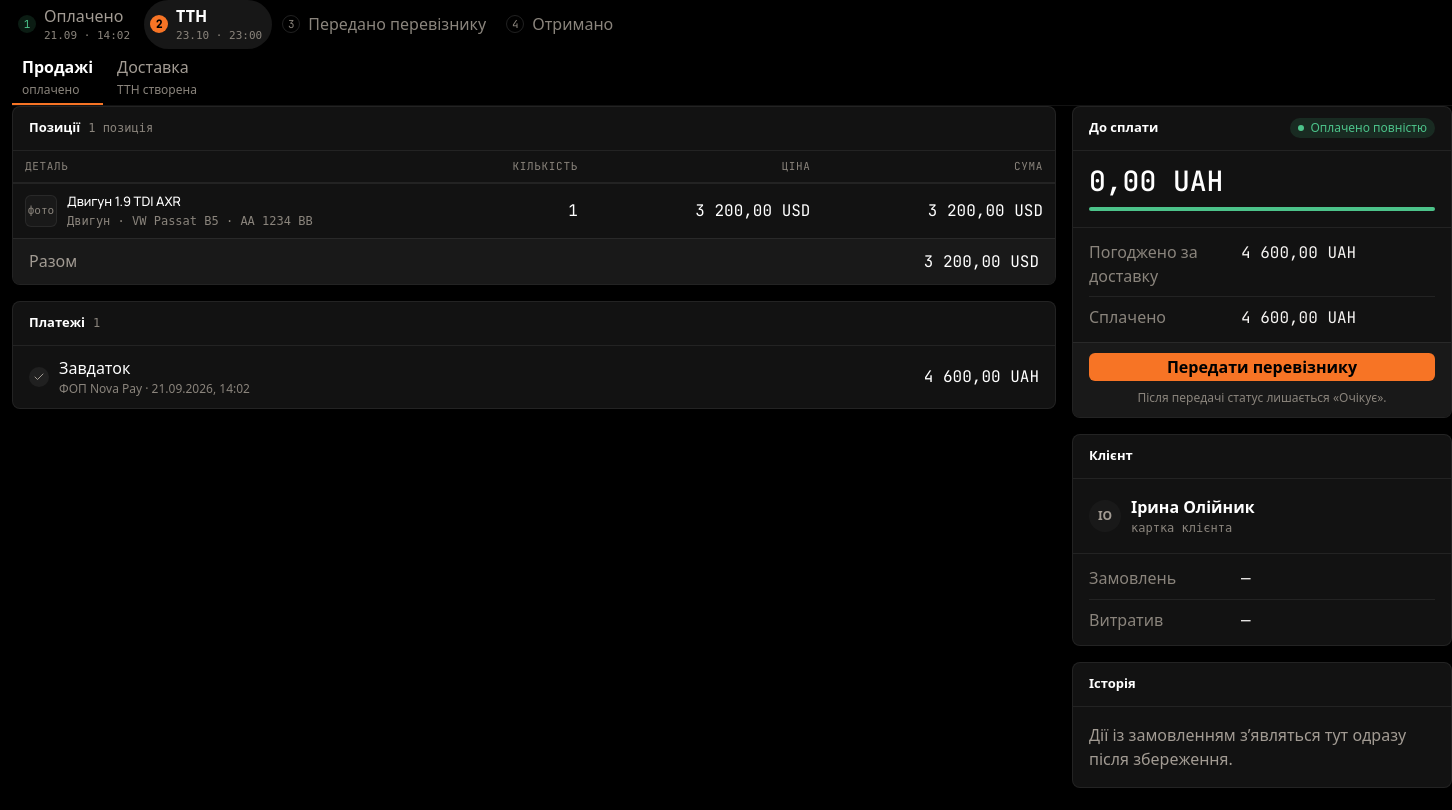
opens on what was sold and keeps the parcel behind its own tab
Expected: the element "Позиції" is shown, [12,106,1056,284]
Expected: the element "Нова пошта" is not shown
Click the tab "Доставка ТТН створена" at (157, 76), box [107,48,207,104]
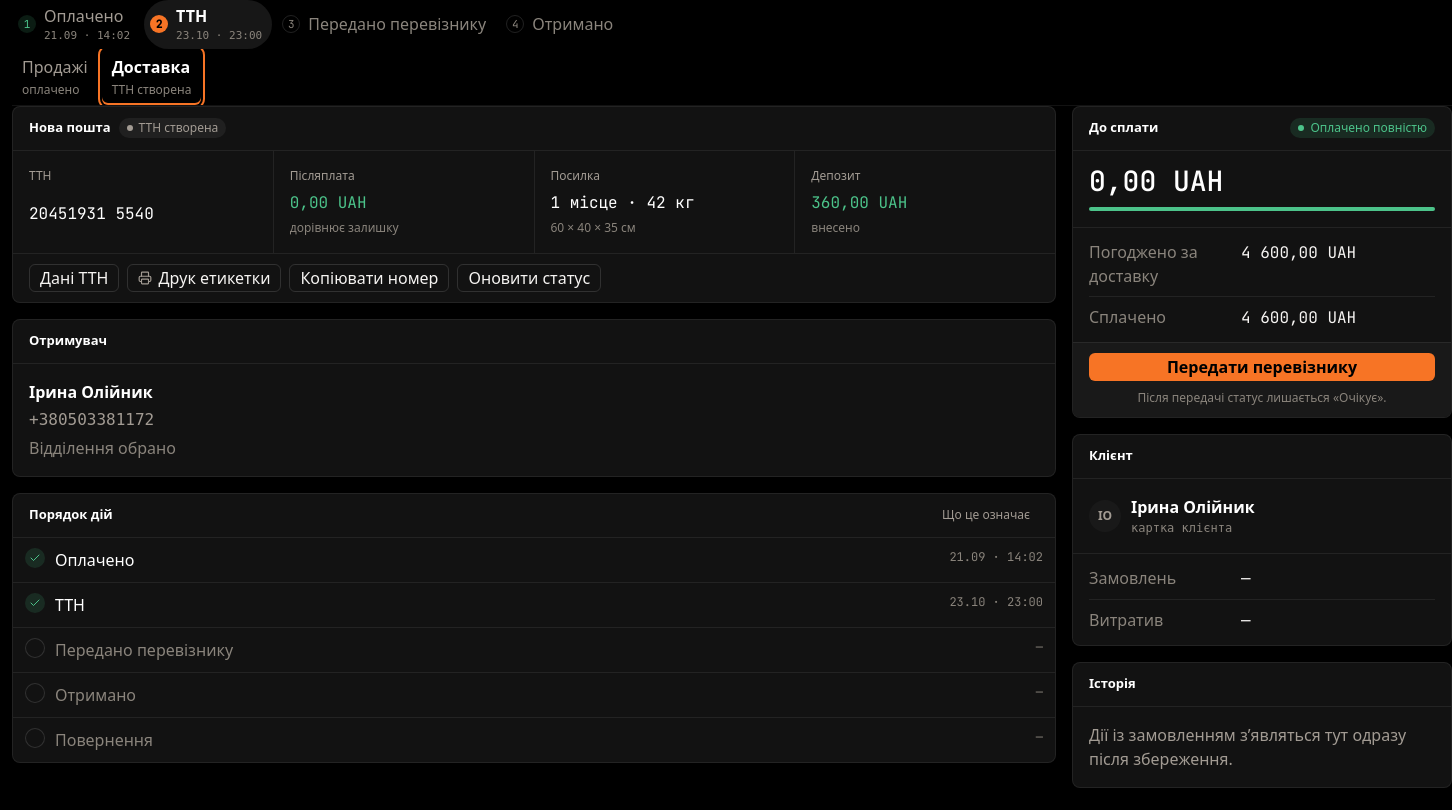
Now the element "Нова пошта" is shown, box [12,106,1056,302]
Now the heading "Позиції" is gone
